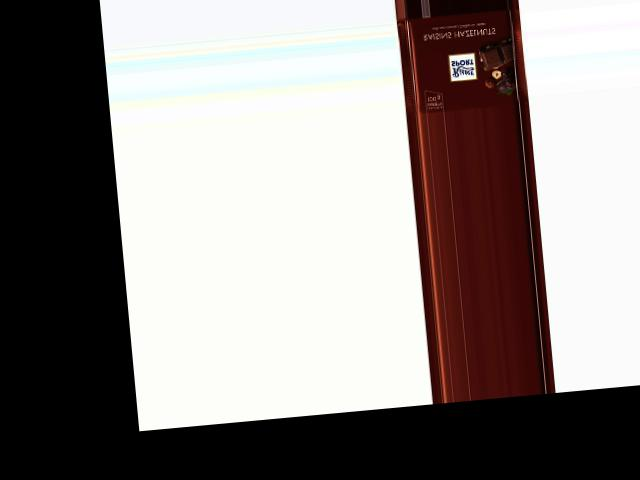chocolate: (396, 7, 530, 115)
